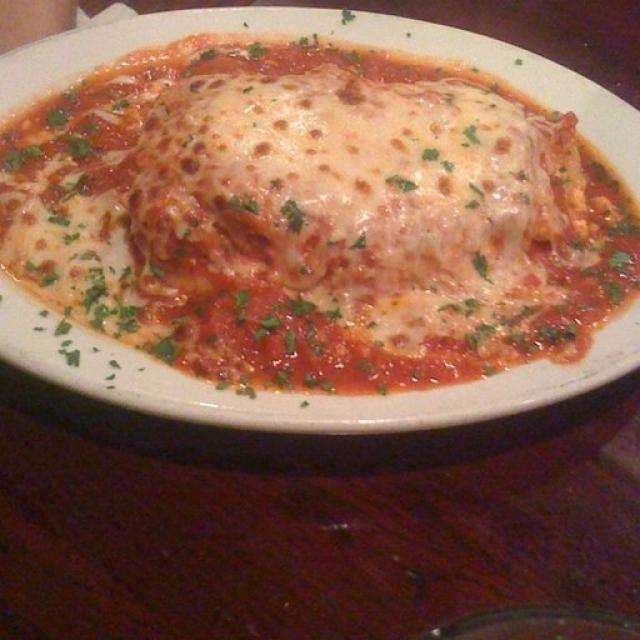Lasagna: (115, 49, 624, 375)
